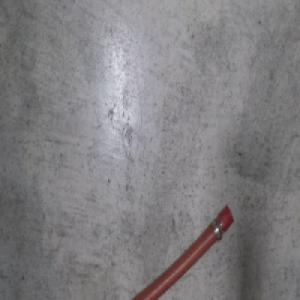Hose: (119, 202, 235, 300)
